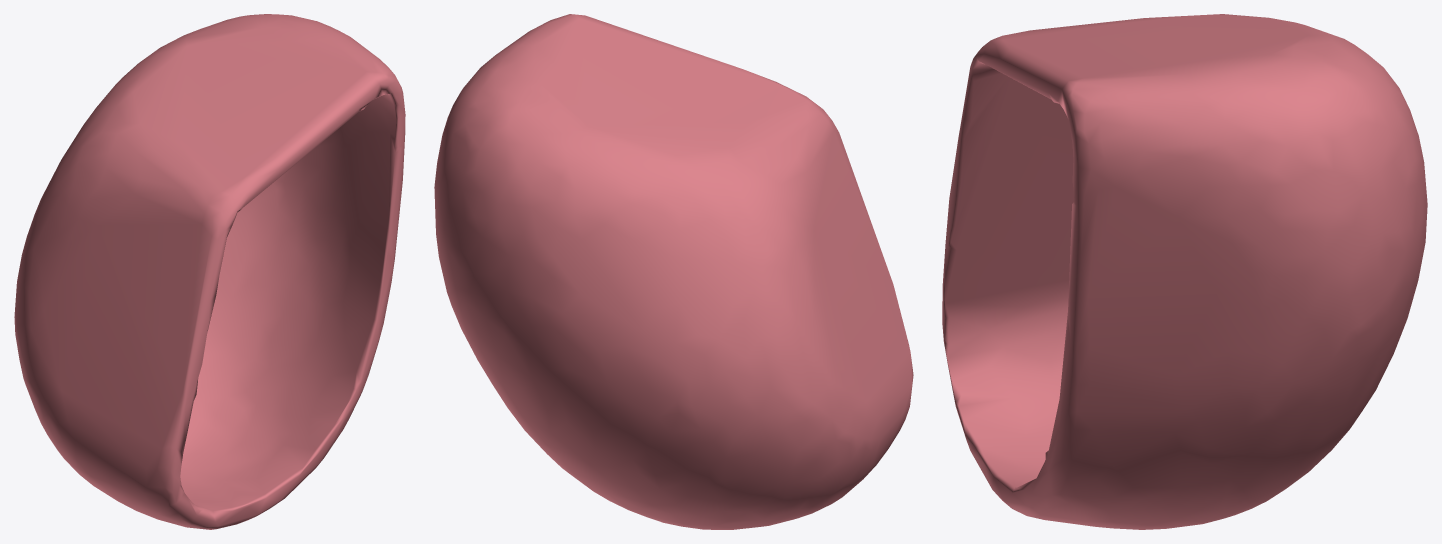
The picture shows the model from 3 angles, left to right: view 1: azimuth 30°, elevation 25°; view 2: azimuth 150°, elevation 25°; view 3: azimuth 270°, elevation 25°; orthographic projection. The views are drawn at different scales.
Visible parts, largest first — view 1: 肺动脉瓣前半月瓣; view 2: 肺动脉瓣前半月瓣; view 3: 肺动脉瓣前半月瓣.
Part boxes in pixels (x1,y1,x2,y2): 肺动脉瓣前半月瓣: (14,14,405,529); 肺动脉瓣前半月瓣: (434,14,913,529); 肺动脉瓣前半月瓣: (942,14,1427,529).
Size of the model in its own units: 0.0272 by 0.0307 by 0.0254.
